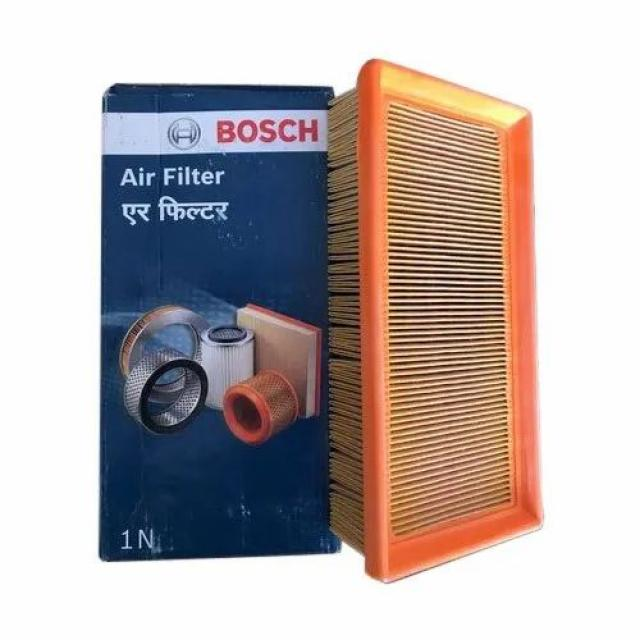air_filter: (327, 53, 549, 590)
